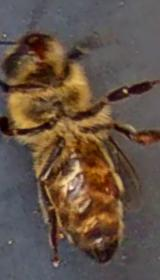varroa_mite: (96, 180, 122, 198)
